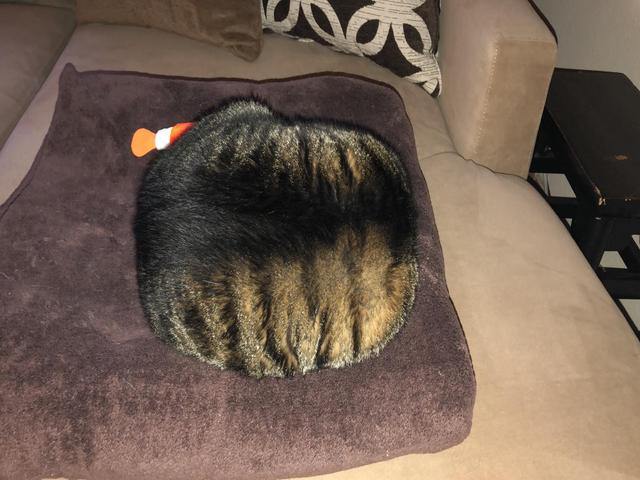clownfish: (131, 122, 195, 156)
playdoh: (139, 100, 424, 381)
